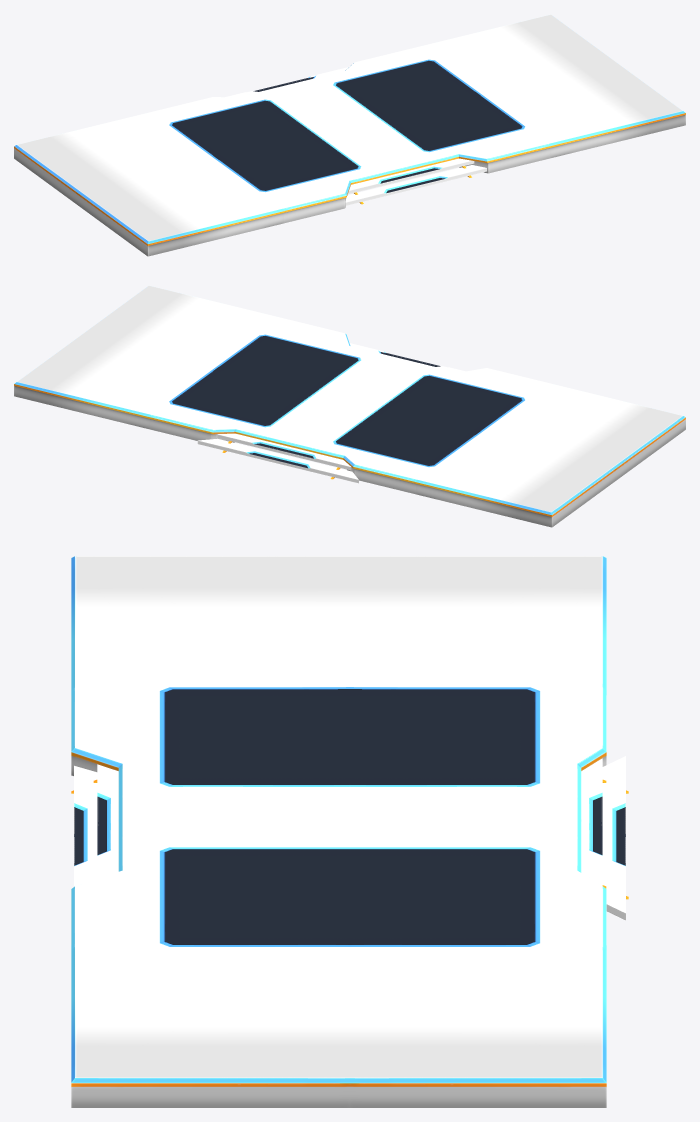
The model's file is obj_floor.gltf.
The picture shows the model from 3 angles, top to bottom: view 1: azimuth 30°, elevation 25°; view 2: azimuth 150°, elevation 25°; view 3: azimuth 270°, elevation 25°; orthographic projection. The views are drawn at different scales.
Parts seen in each view (by area): view 1: obj_floor; view 2: obj_floor; view 3: obj_floor.
Boxes of the visible parts, bbox=[...] form: obj_floor: bbox=[14, 14, 685, 256]; obj_floor: bbox=[14, 285, 685, 527]; obj_floor: bbox=[71, 556, 628, 1107].
Size of what is drawn, in the model's own units: 16 by 0.4 by 7.18.
2 materials, 2 textured.
